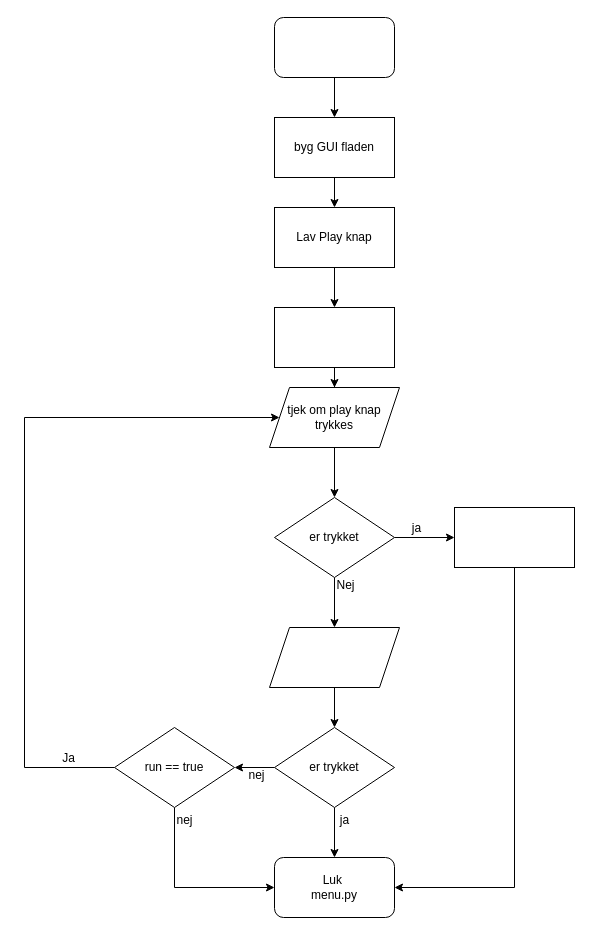
Image size: 592x935. Some labels were removed from this diagram. The shapes that lost their labels are listed below. From the top down, each one's centre as x and y in pixels, then its label:
At [334,47]: "start menu.py".
At [334,337]: "lav Quit knap".
At [514,537]: "start blackjack.py".
At [334,657]: "Tjek om quit knap trykkes".
